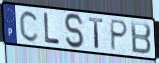B: (129, 20, 153, 56)
C: (18, 9, 40, 44)
L: (42, 11, 61, 45)
P: (110, 18, 130, 52)
S: (63, 12, 86, 51)
T: (88, 17, 105, 51)
